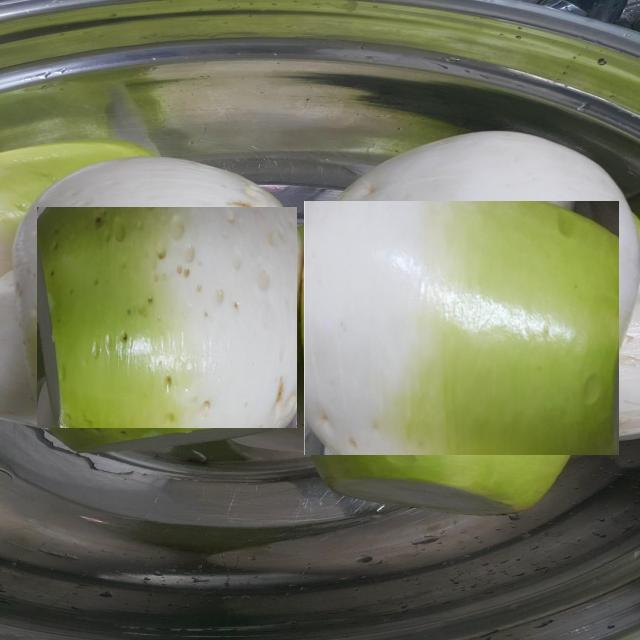radish: (320, 186, 604, 470), (47, 198, 287, 438)
